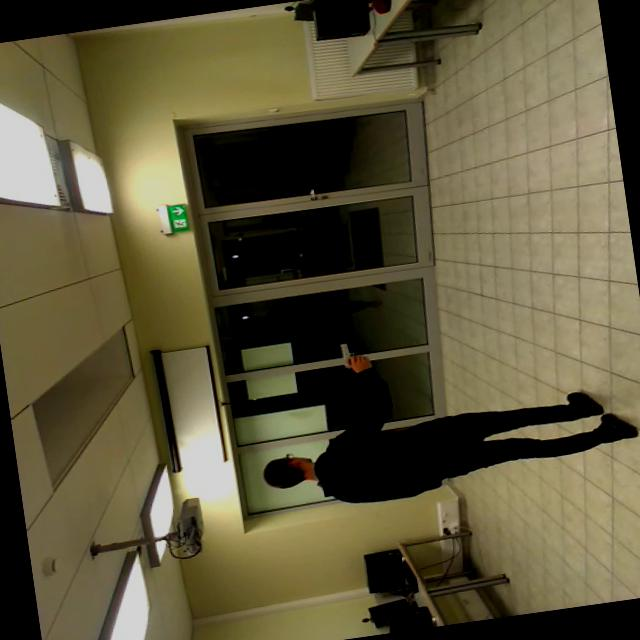handgun: (331, 330, 382, 376)
